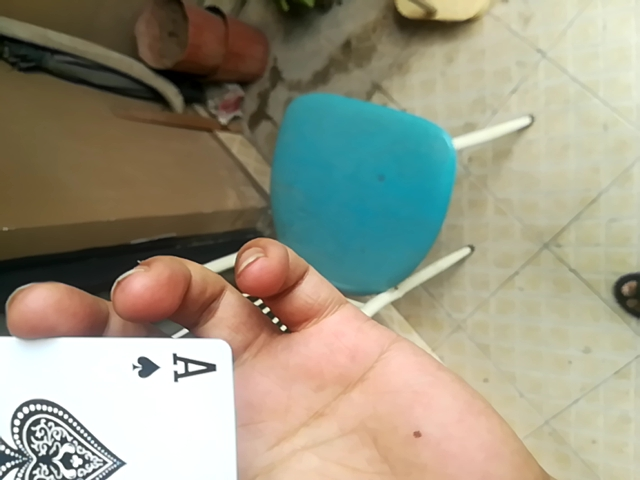ht a: (0, 331, 235, 480)
